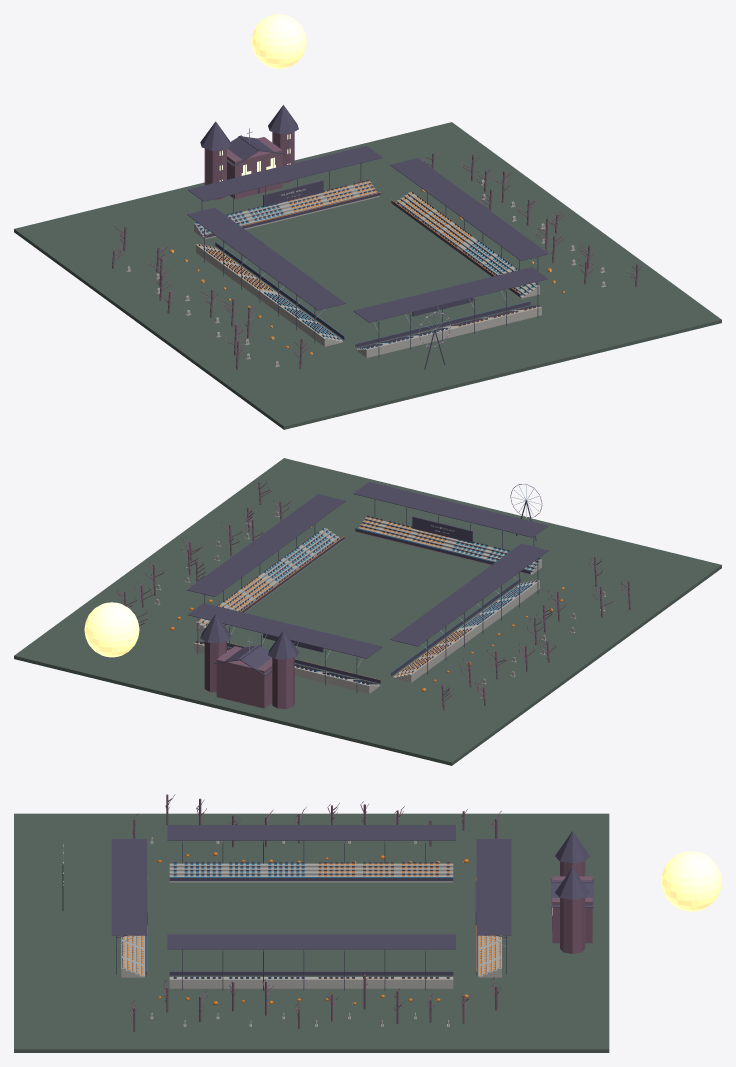
Rendered from halloween.glb.
The picture shows the model from 3 angles, top to bottom: view 1: azimuth 30°, elevation 25°; view 2: azimuth 150°, elevation 25°; view 3: azimuth 270°, elevation 25°; orthographic projection. The views are drawn at different scales.
Visible parts, largest first — view 1: halloween_Scenery_ground, halloween_Venue_structural_steel, halloween_Pale_stone_or_snow, halloween_Timber_or_panel_substrate, halloween_Harvest_moon, halloween_Orange_end_seating, halloween_Blue_end_seating; view 2: halloween_Scenery_ground, halloween_Venue_structural_steel, halloween_Pale_stone_or_snow, halloween_Timber_or_panel_substrate, halloween_Harvest_moon, halloween_Blue_end_seating, halloween_Orange_end_seating; view 3: halloween_Scenery_ground, halloween_Venue_structural_steel, halloween_Pale_stone_or_snow, halloween_Timber_or_panel_substrate, halloween_Harvest_moon, halloween_Orange_end_seating, halloween_Blue_end_seating.
Part boxes in pixels (x1,y1,x2,y2): halloween_Scenery_ground: (14, 122, 721, 429); halloween_Venue_structural_steel: (157, 105, 603, 369); halloween_Pale_stone_or_snow: (126, 179, 606, 366); halloween_Timber_or_panel_substrate: (112, 132, 642, 369); halloween_Harvest_moon: (251, 14, 306, 68); halloween_Orange_end_seating: (200, 181, 539, 326); halloween_Blue_end_seating: (196, 204, 536, 348); halloween_Scenery_ground: (14, 458, 721, 765); halloween_Venue_structural_steel: (187, 482, 548, 692); halloween_Pale_stone_or_snow: (127, 511, 606, 698); halloween_Timber_or_panel_substrate: (117, 480, 630, 710); halloween_Harvest_moon: (84, 602, 139, 657); halloween_Blue_end_seating: (264, 528, 539, 684); halloween_Orange_end_seating: (196, 517, 471, 680); halloween_Scenery_ground: (14, 813, 609, 1052); halloween_Venue_structural_steel: (62, 825, 593, 1023); halloween_Pale_stone_or_snow: (121, 837, 501, 1026); halloween_Timber_or_panel_substrate: (129, 794, 592, 1031); halloween_Harvest_moon: (661, 851, 721, 911); halloween_Orange_end_seating: (123, 863, 500, 978); halloween_Blue_end_seating: (146, 863, 453, 978).
Size of the model in its own units: 220 by 55 by 280.
